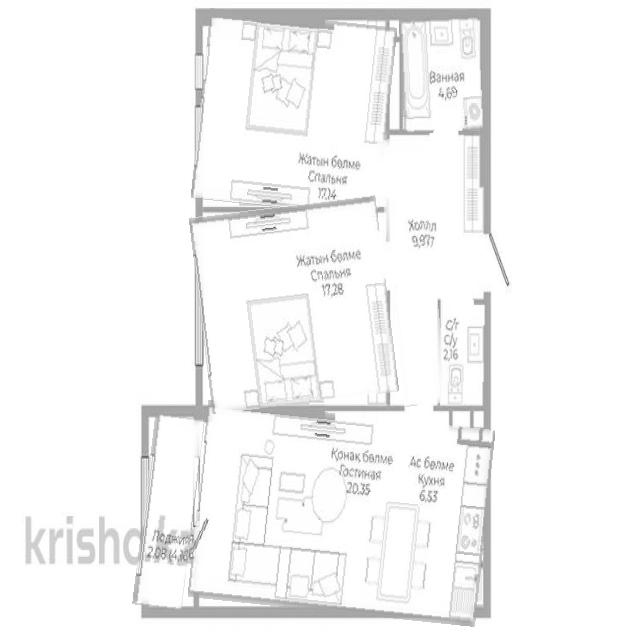balcony: (138, 415, 199, 609)
bathroom: (399, 10, 482, 133), (441, 300, 488, 406)
hallway: (384, 137, 442, 407)
living_room: (194, 201, 393, 409), (195, 12, 392, 212)
studio: (192, 408, 491, 620)
